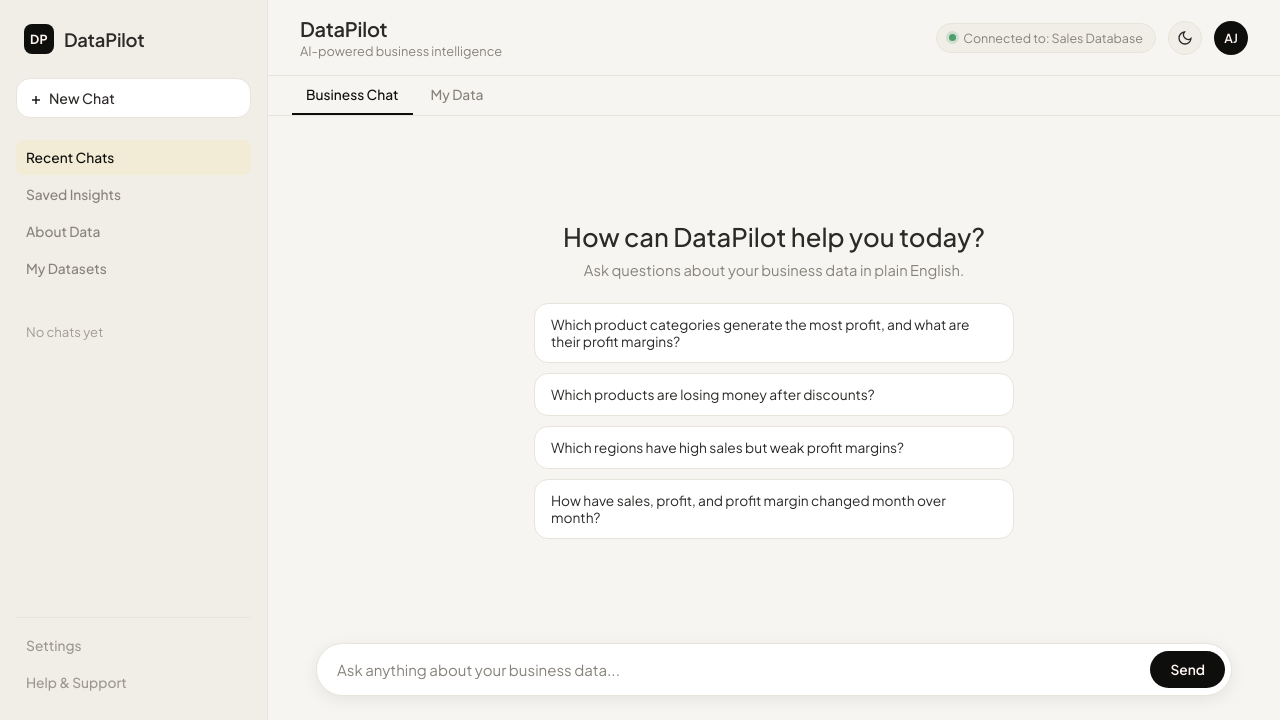
Scenario: dataset import & catalog › shows an error and keeps the dataset when delete fails
The image size is (1280, 720).
Click the button "My Datasets".
click(134, 268)  # box [16,251,251,286]
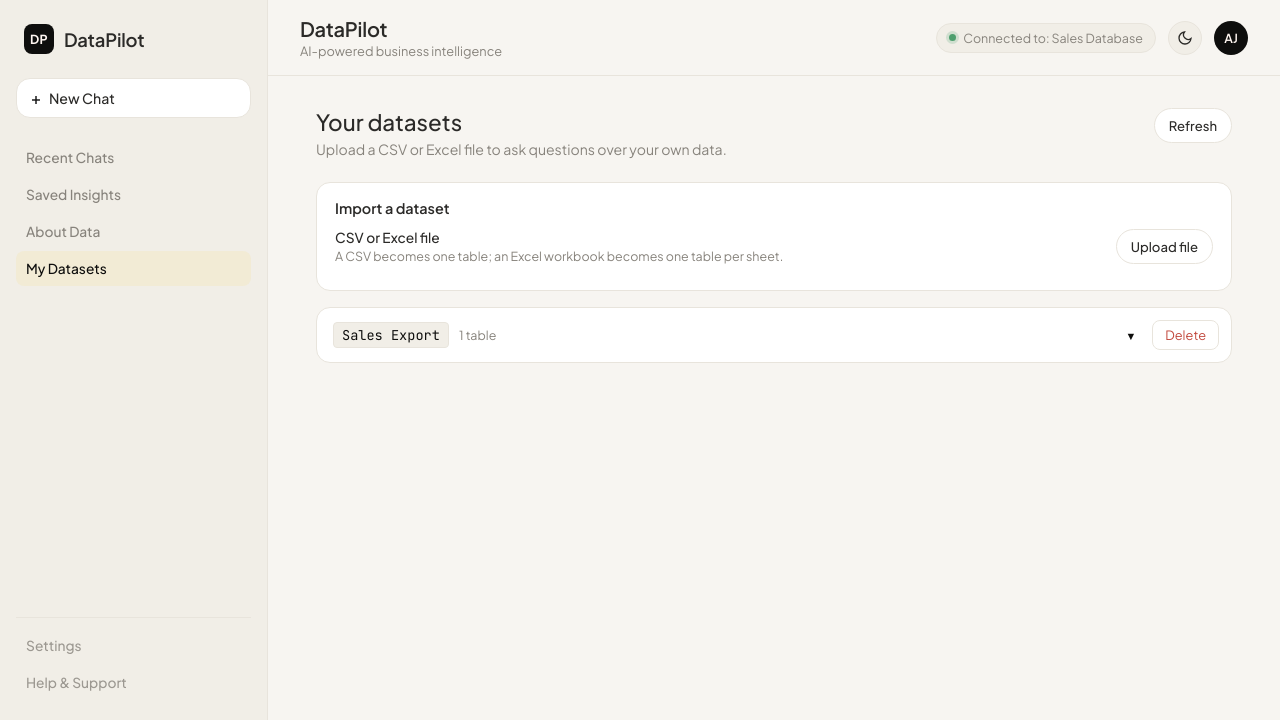
Expected: the text "Sales Export" is shown, [333,322,449,348]
Click the button with aria-label "Delete Sales Export".
click(1186, 335)  # box [1152,320,1219,350]
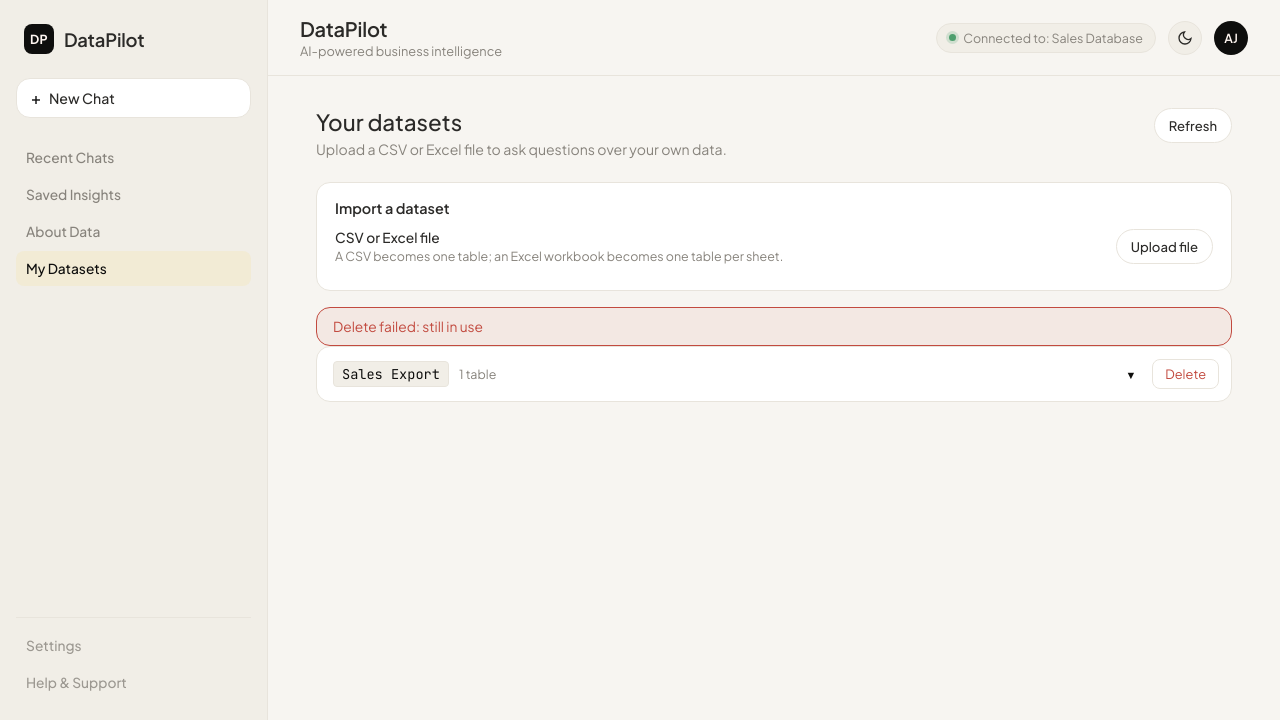
Expected: the text "Sales Export" is shown, [333,361,449,387]
Expected: the text "Delete failed: still in use" is shown, [316,307,1232,346]
